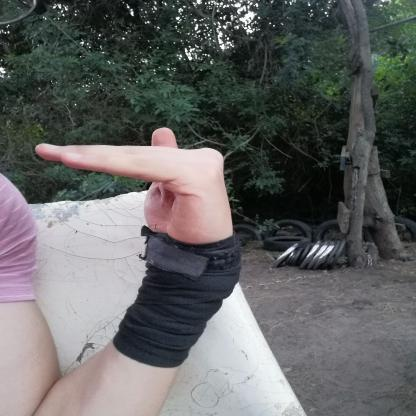KHAA: (20, 114, 251, 262)
